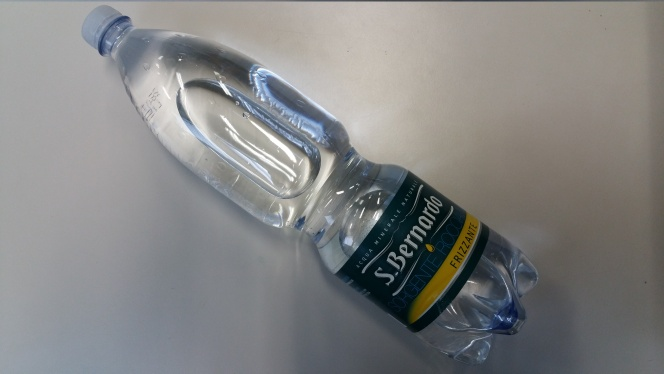bottle: (75, 1, 542, 369)
